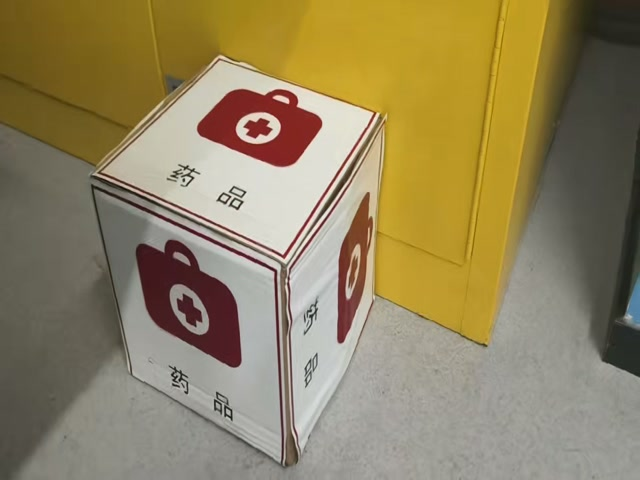Cube_medicine: (92, 57, 383, 256)
